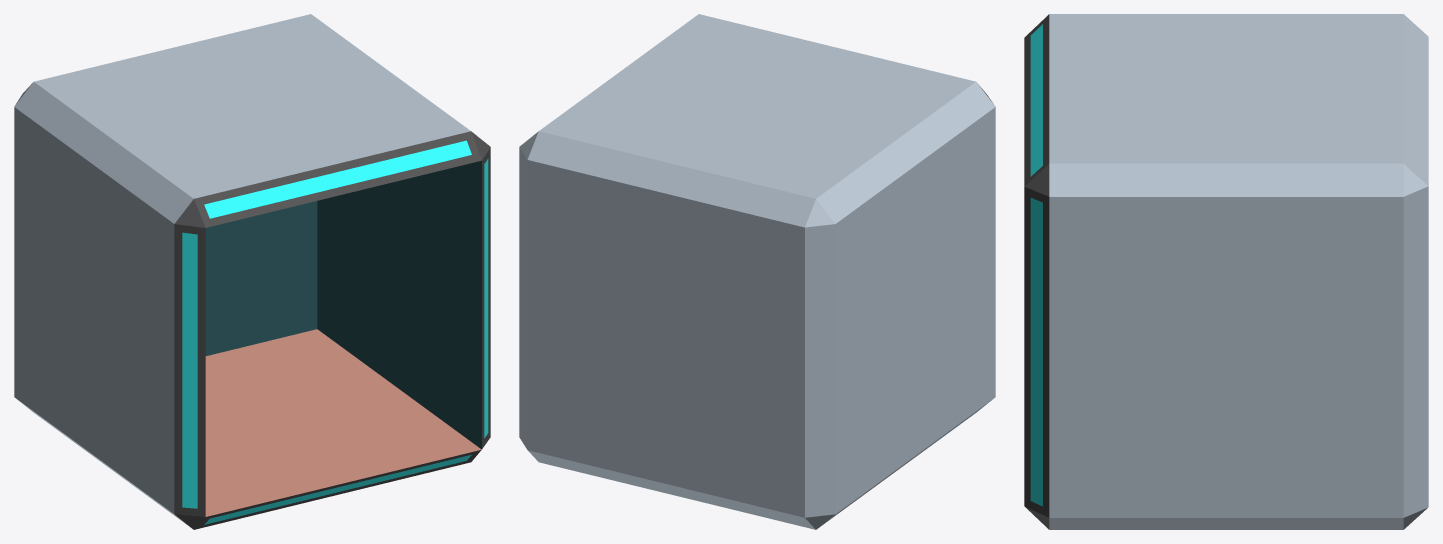
The model's file is PowerBoxt.fbx.
3 renders of one model, left to right at view 1: azimuth 30°, elevation 25°; view 2: azimuth 150°, elevation 25°; view 3: azimuth 270°, elevation 25°, orthographic. The views are drawn at different scales.
Visible parts, largest first — view 1: PowerBox; view 2: PowerBox; view 3: PowerBox.
Boxes of the visible parts, x1,y1,x2,y2 form: PowerBox: [14, 14, 490, 529]; PowerBox: [519, 14, 995, 529]; PowerBox: [1024, 14, 1428, 529].
Size of the model in its own units: 149 by 149 by 149.
